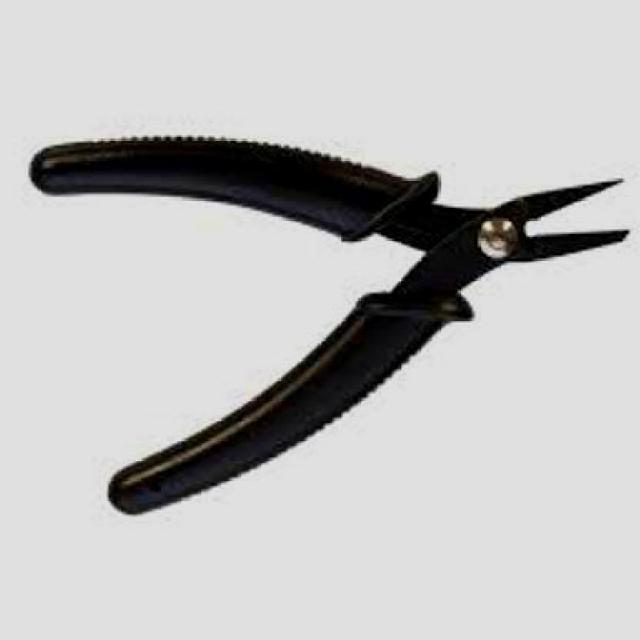pliers: (19, 81, 638, 542)
